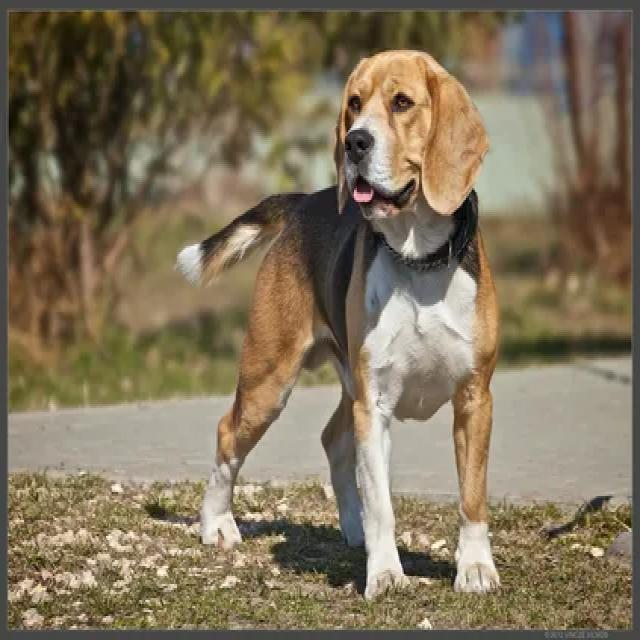Dog: (175, 47, 503, 597)
